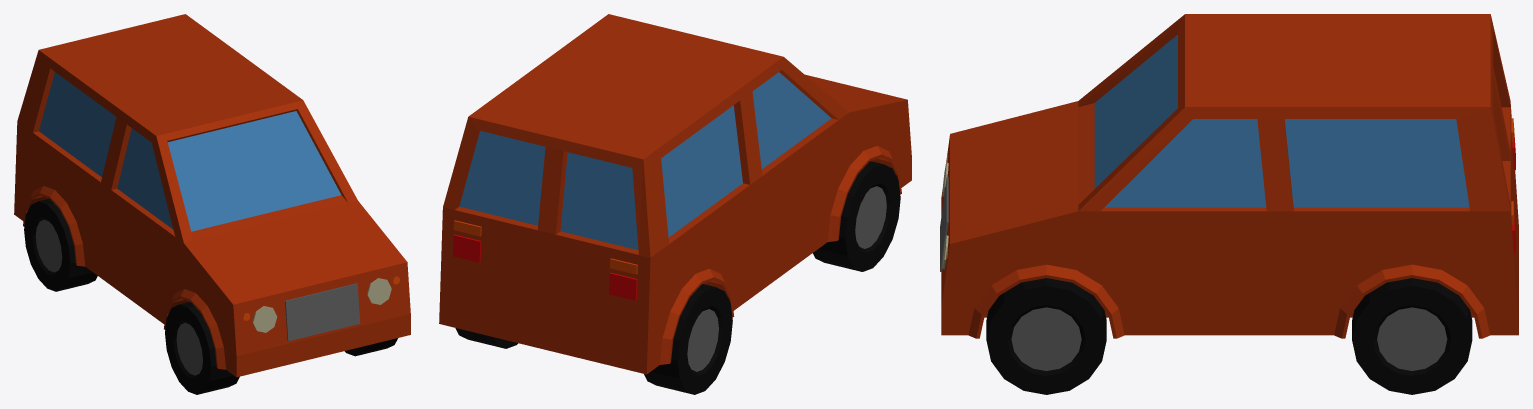
The model's file is car-microtransport-orange.obj.
3 renders of one model, left to right at view 1: azimuth 30°, elevation 25°; view 2: azimuth 150°, elevation 25°; view 3: azimuth 270°, elevation 25°, orthographic. The views are drawn at different scales.
Visible parts, largest first — view 1: car-microtransport-orange_Cube.612_carmaterial_orange, car-microtransport-orange_Cube.612_windows, car-microtransport-orange_Cube.612_tires, car-microtransport-orange_Cube.612_metal, car-microtransport-orange_Cube.612_lights; view 2: car-microtransport-orange_Cube.612_carmaterial_orange, car-microtransport-orange_Cube.612_windows, car-microtransport-orange_Cube.612_tires, car-microtransport-orange_Cube.612_metal, car-microtransport-orange_Cube.612_lights.red, car-microtransport-orange_Cube.612_lights.orange; view 3: car-microtransport-orange_Cube.612_carmaterial_orange, car-microtransport-orange_Cube.612_windows, car-microtransport-orange_Cube.612_tires, car-microtransport-orange_Cube.612_metal.
Boxes of the visible parts, x1,y1,x2,y2 form: car-microtransport-orange_Cube.612_carmaterial_orange: (14, 14, 410, 377); car-microtransport-orange_Cube.612_windows: (39, 72, 341, 231); car-microtransport-orange_Cube.612_tires: (24, 199, 397, 394); car-microtransport-orange_Cube.612_metal: (35, 219, 360, 375); car-microtransport-orange_Cube.612_lights: (252, 278, 391, 332); car-microtransport-orange_Cube.612_carmaterial_orange: (439, 14, 911, 374); car-microtransport-orange_Cube.612_windows: (459, 72, 831, 249); car-microtransport-orange_Cube.612_tires: (455, 161, 900, 394); car-microtransport-orange_Cube.612_metal: (687, 186, 886, 371); car-microtransport-orange_Cube.612_lights.red: (452, 234, 637, 300); car-microtransport-orange_Cube.612_lights.orange: (453, 220, 637, 274); car-microtransport-orange_Cube.612_carmaterial_orange: (941, 14, 1518, 338); car-microtransport-orange_Cube.612_windows: (1094, 34, 1469, 207); car-microtransport-orange_Cube.612_tires: (986, 278, 1472, 394); car-microtransport-orange_Cube.612_metal: (940, 177, 1447, 370).
Bounding box in the file's own units: 0.8967 × 0.9513 × 1.82.
